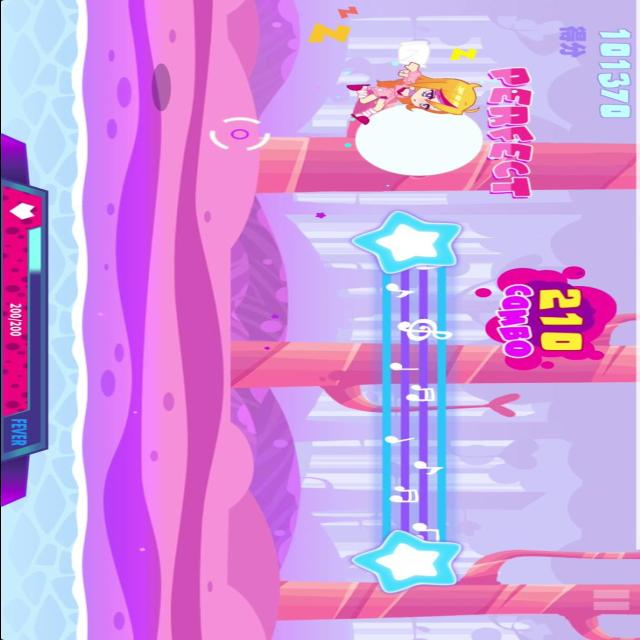hold: (343, 210, 469, 598)
